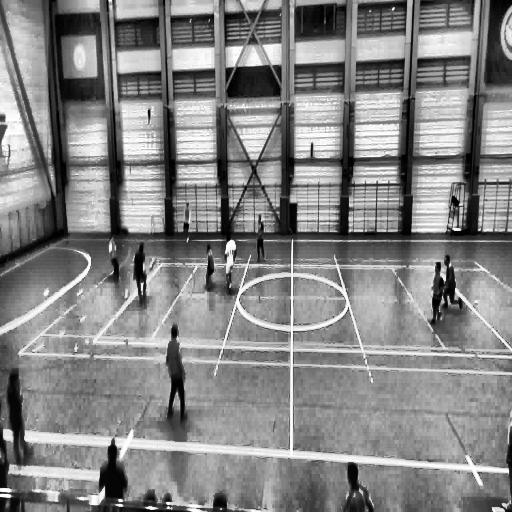ball: (148, 259, 158, 274)
player: (165, 324, 187, 421), (6, 371, 26, 466), (442, 254, 462, 310), (431, 262, 444, 326), (134, 242, 147, 302), (224, 233, 236, 292), (109, 234, 120, 280), (206, 243, 216, 291), (256, 215, 264, 261), (183, 202, 191, 240)
